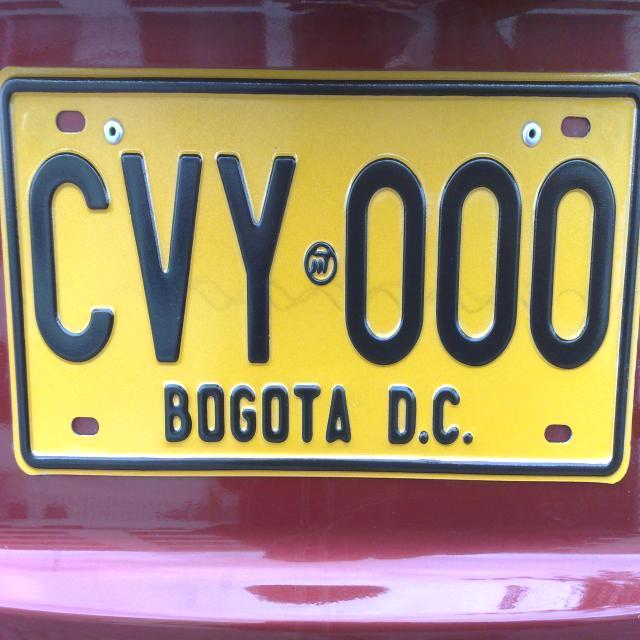placa: (1, 61, 636, 487)
